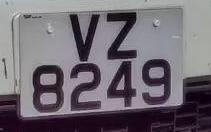2: (64, 58, 107, 114)
4: (102, 57, 139, 109)
8: (27, 61, 69, 115)
9: (136, 53, 177, 109)
V: (61, 9, 107, 64)
Z: (101, 7, 147, 62)
